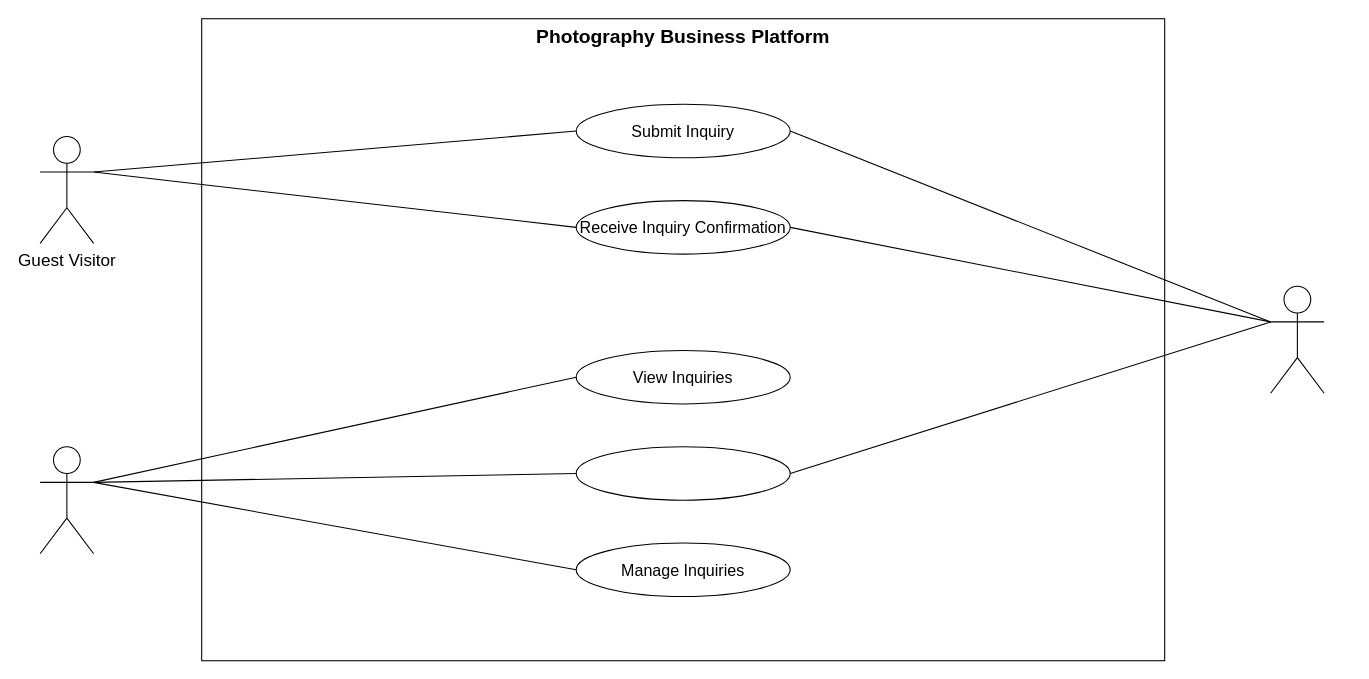
This 1369x679 diagram has some shape labels left out. The shapes that lost their labels are listed below. From the top down, each one's centre as x and y in pixels, then its label:
At (x=1297, y=339): "Email Service".
At (x=682, y=473): "Respond to Inquiry".
At (x=66, y=500): "Photographer".
